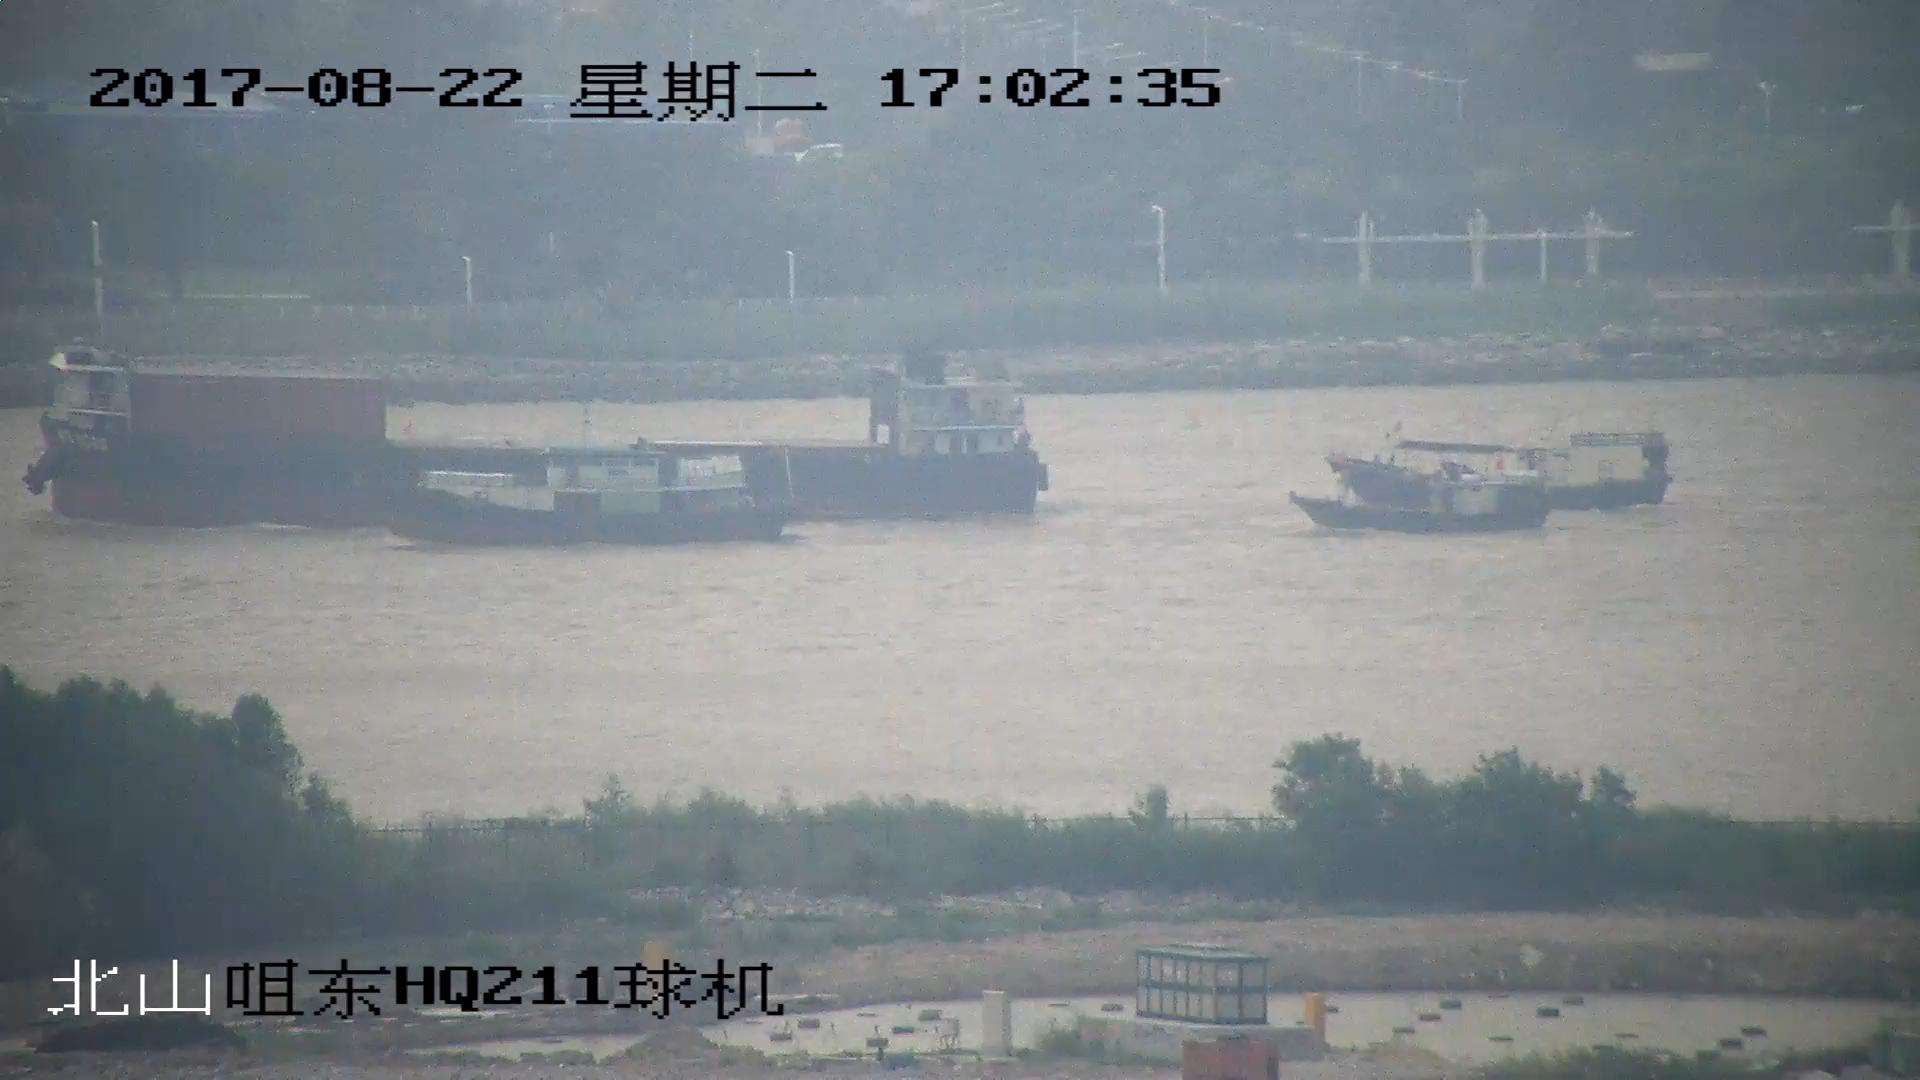fishing boat: (374, 433, 787, 550), (1338, 424, 1674, 514), (1295, 469, 1544, 539)
general cargo ship: (33, 320, 1048, 525)
